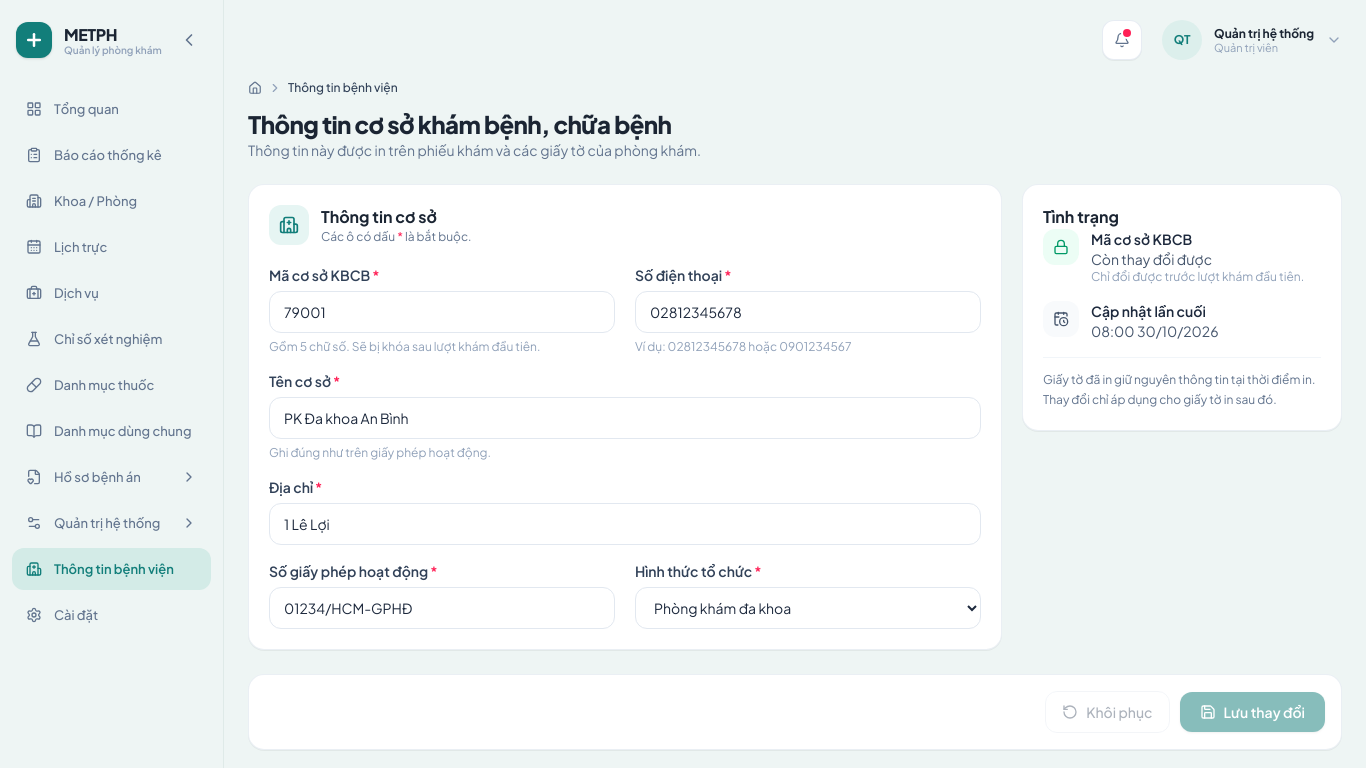
Test case: HospitalInformationPage (UC-77) › reloads and explains when the code became locked meanwhile
Replace the text in the field labelled "Mã cơ sở KBCB*" with "79002" at point(442, 312), box [269,291,615,333]
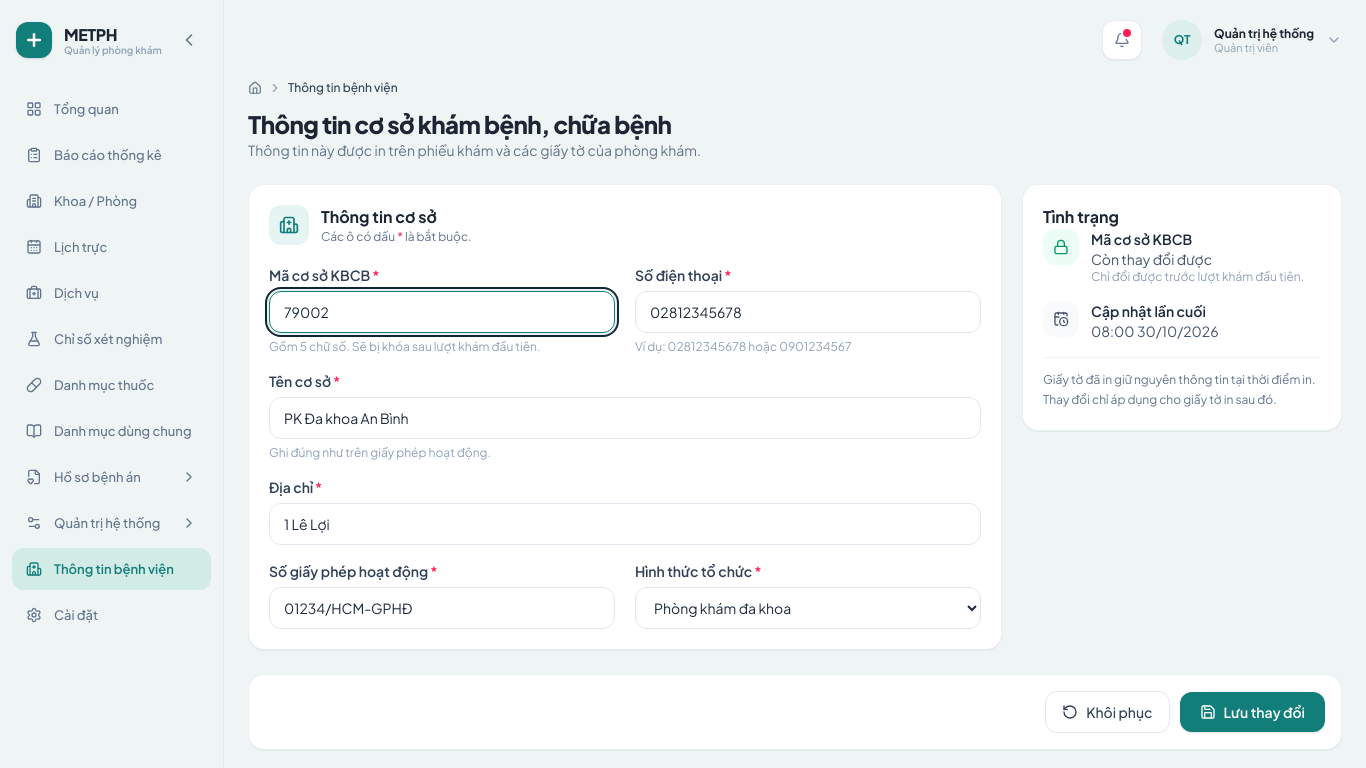
Click the button "Lưu thay đổi".
click(1252, 712)  # box [1180,692,1325,732]
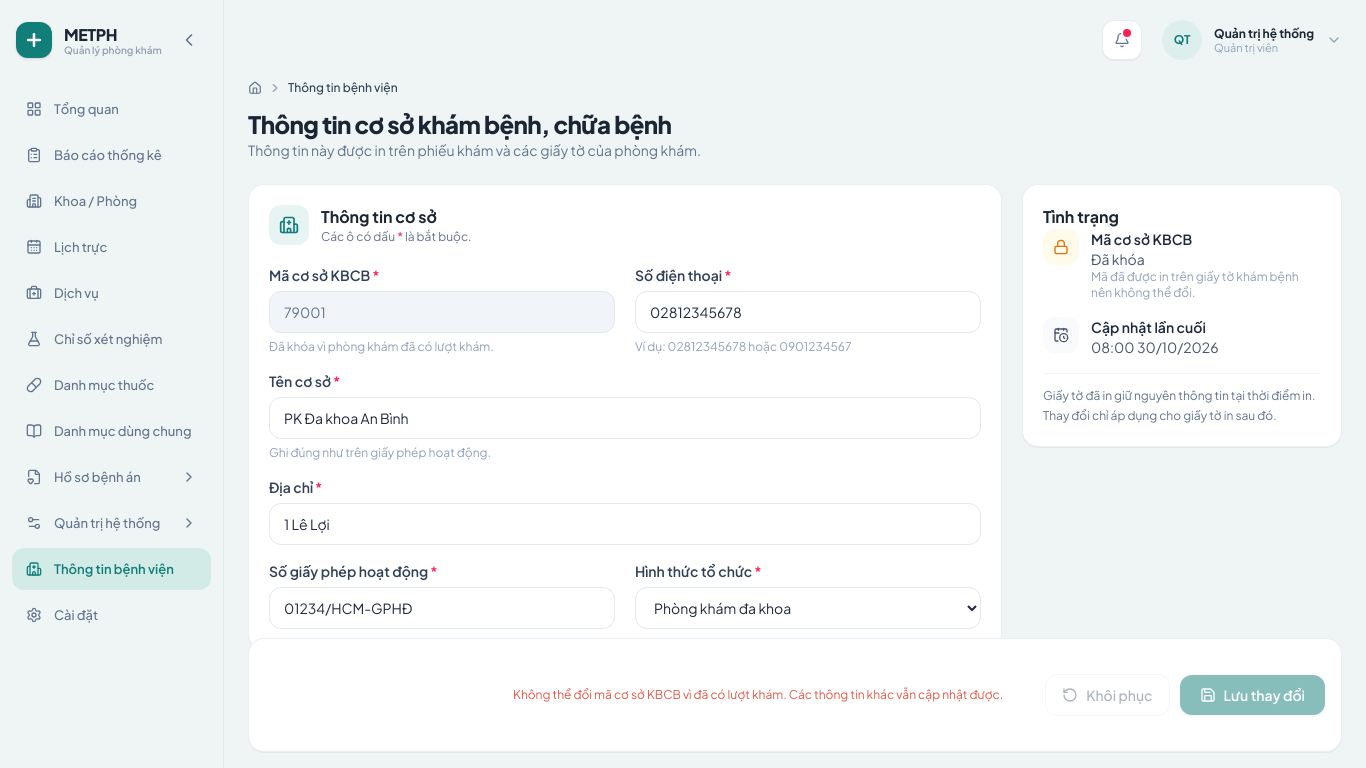
Check: the message shows "Không thể đổi mã cơ sở KBCB vì đã có lượt khám.", box [513,687,1003,702]
Check: the field labelled "Mã cơ sở KBCB*" is disabled, box [269,291,615,333]
Check: the field labelled "Mã cơ sở KBCB*" holds "79001", box [269,291,615,333]
